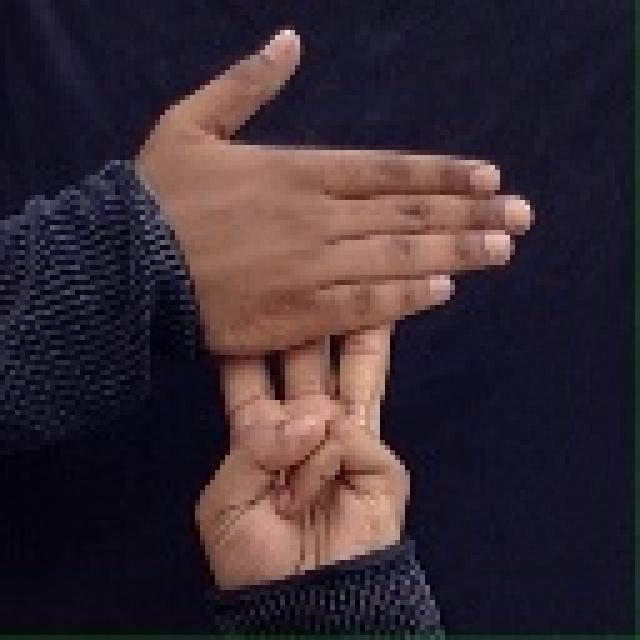Alphabet-M: (115, 18, 543, 584)
